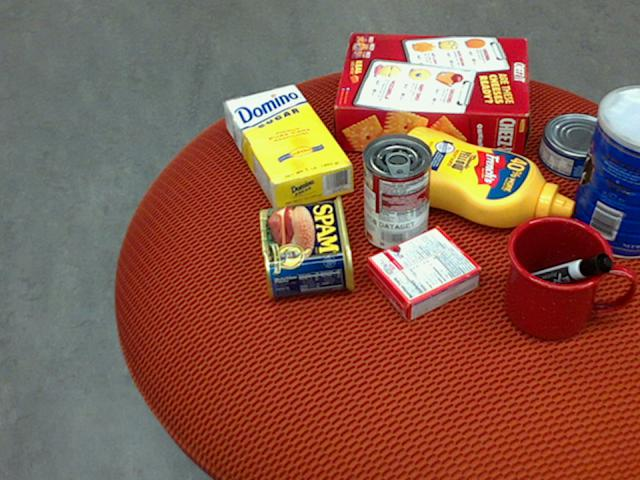cracker_box: (333, 31, 528, 157)
gelatin_box: (363, 228, 480, 322)
large_marker: (511, 251, 612, 294)
master_chef_can: (567, 85, 639, 258)
mug: (503, 215, 631, 340)
mustard_bottle: (384, 126, 573, 227)
potted_meat_can: (258, 195, 354, 298)
sugar_box: (222, 82, 353, 214)
tomato_soup_can: (361, 131, 431, 251)
tuna_fish_can: (536, 111, 618, 179)
